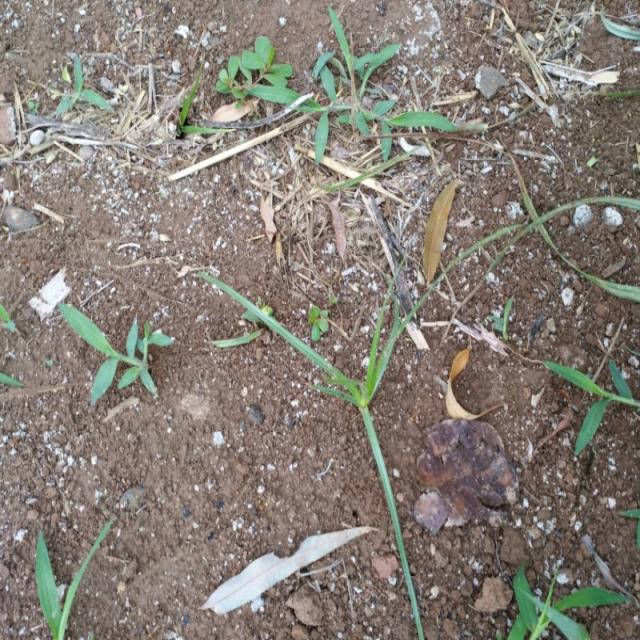sedge: (178, 202, 488, 600)
